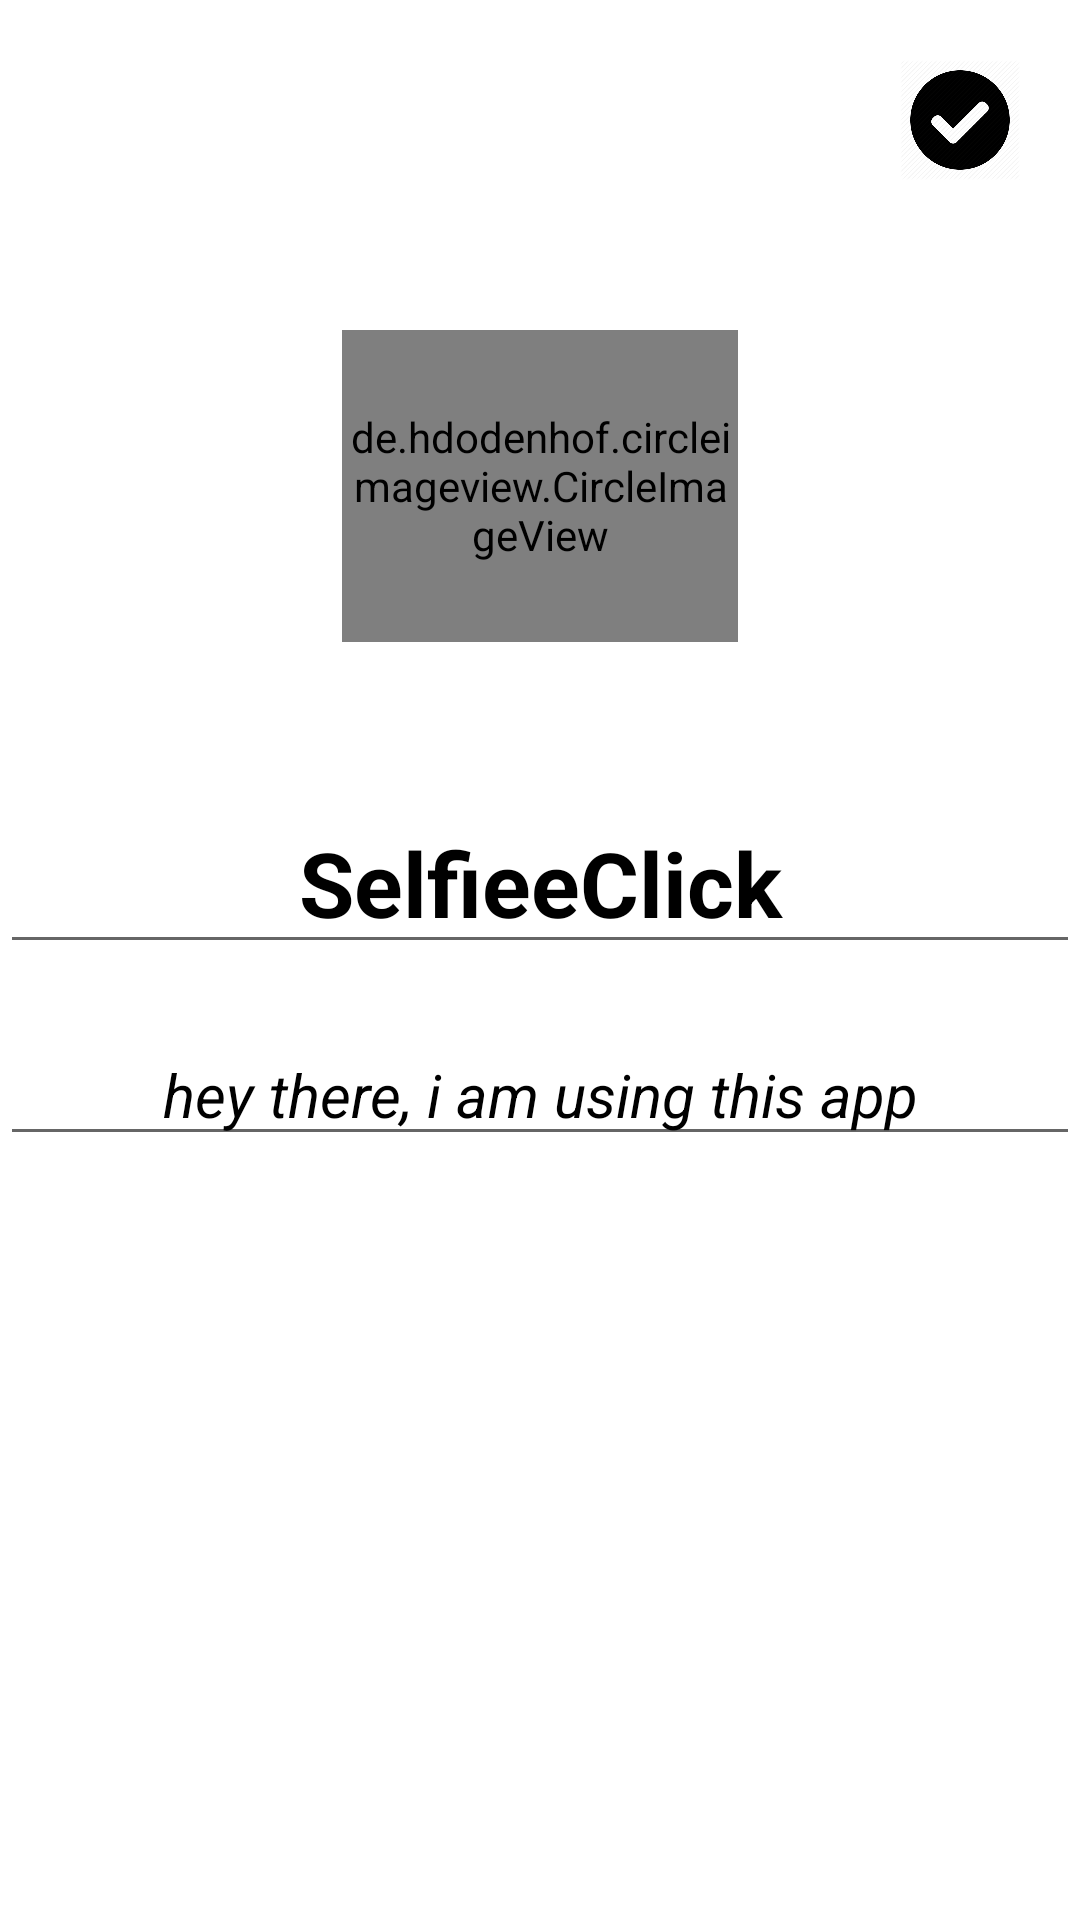

Icons on this 1080px×1920px Android screen, each with the point to tap as [x,y]:
done: [960,120]
